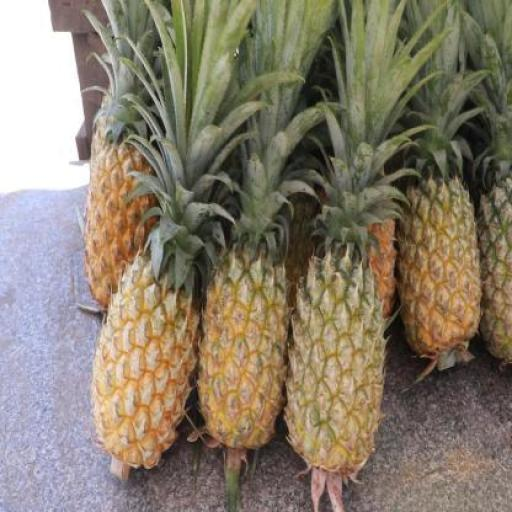------------------------------: (286, 260, 382, 464)
Pineapple - v8 v1: (92, 255, 200, 467), (197, 256, 289, 452), (82, 126, 158, 313), (398, 186, 478, 356)
